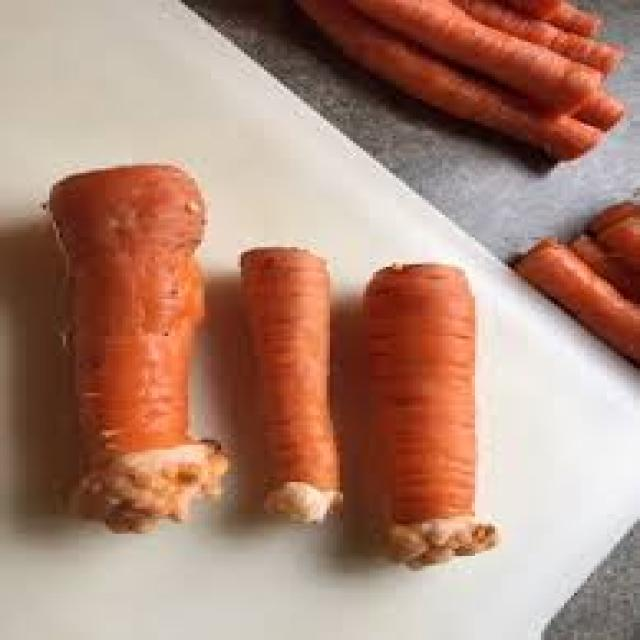Stale_Carrot: (39, 162, 211, 552), (228, 238, 358, 621), (369, 259, 515, 574)
